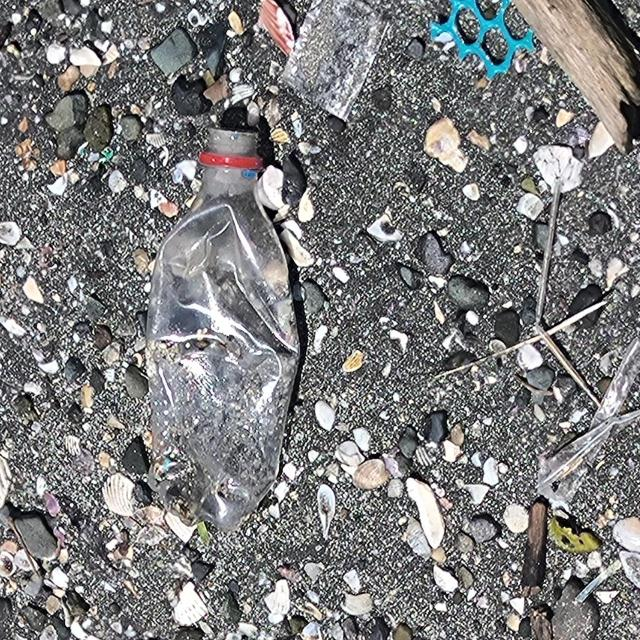plastic_waste: (144, 125, 305, 535)
